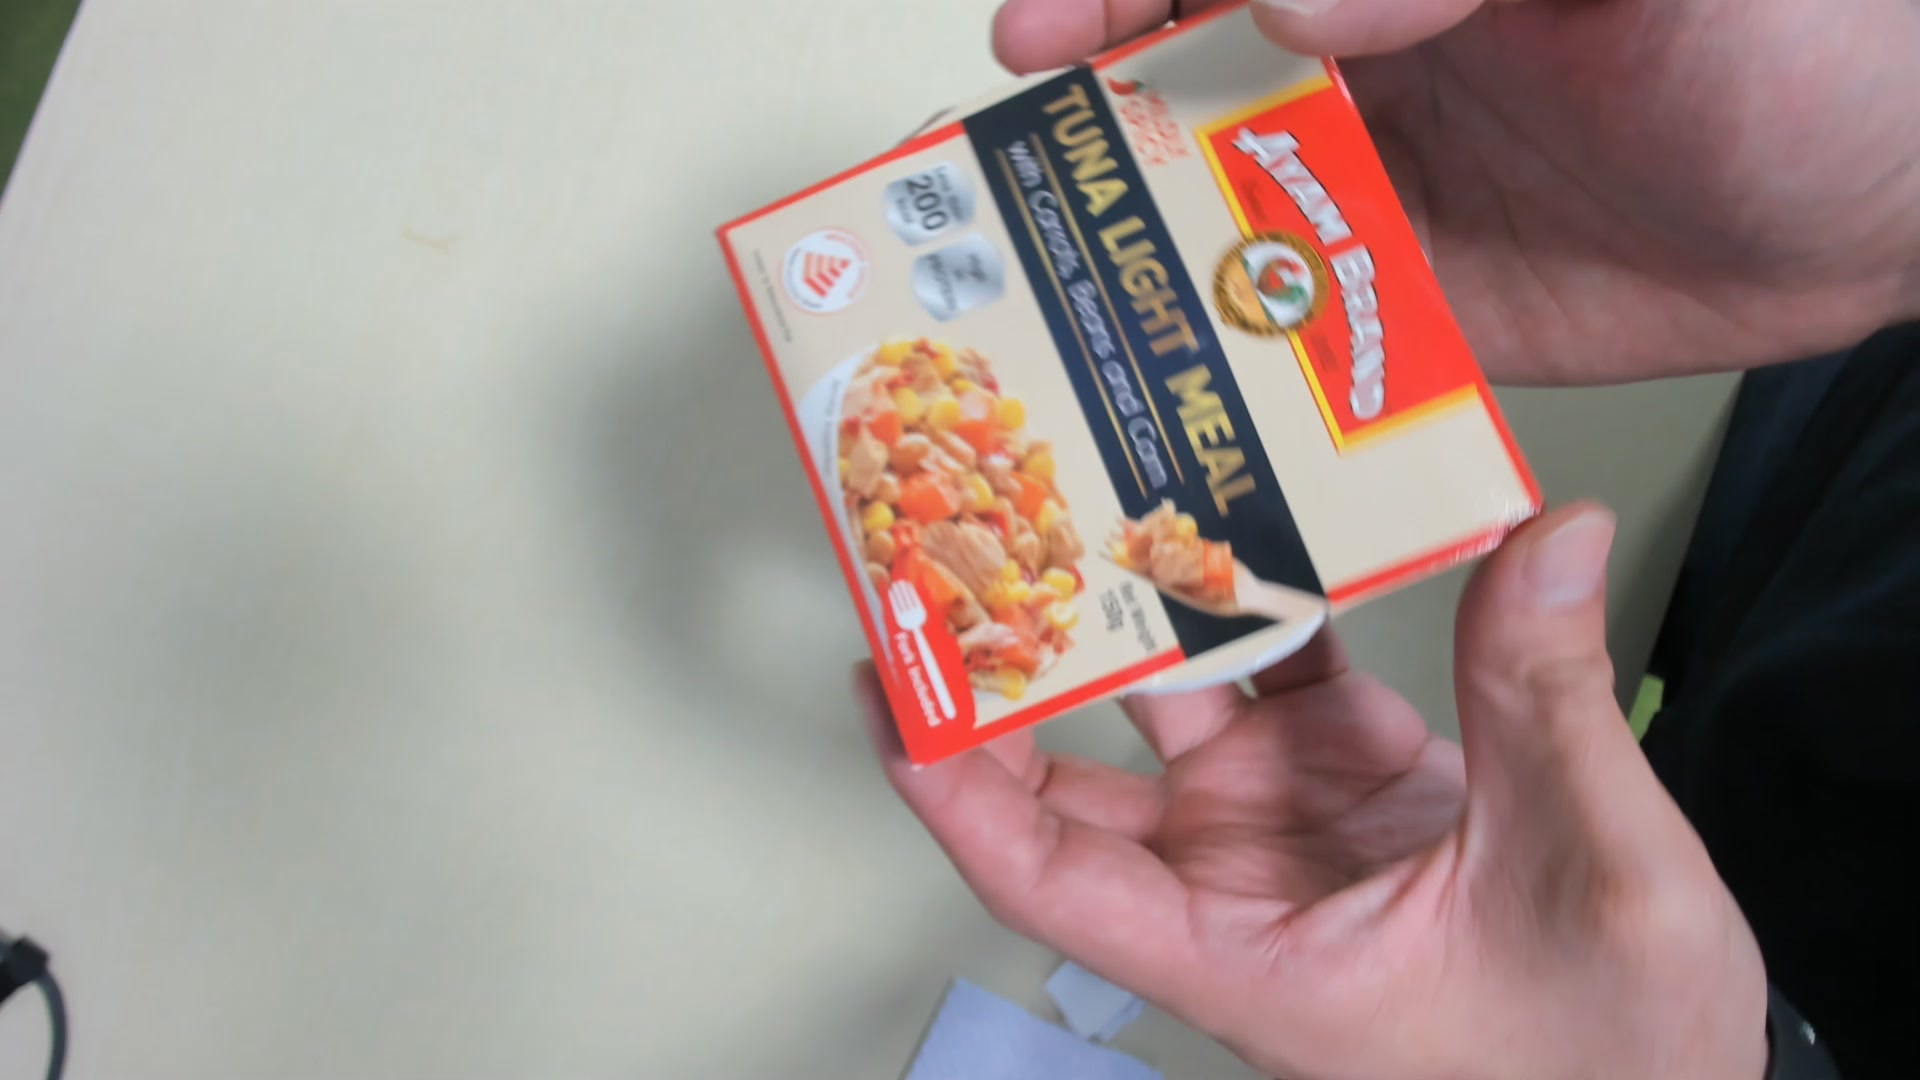InstantMeals_100-199g_NonHalal_Healthy: (716, 9, 1520, 756)
